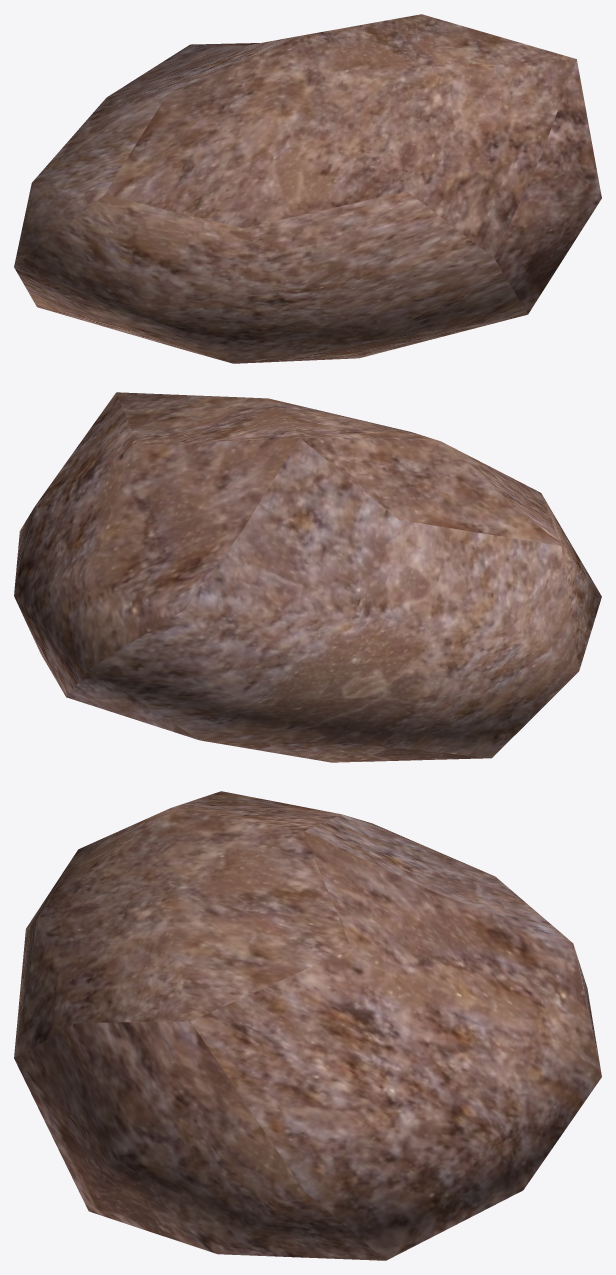
File: Rock05.fbx
3 views of the same model, one above another, from view 1: azimuth 30°, elevation 25°; view 2: azimuth 150°, elevation 25°; view 3: azimuth 270°, elevation 25° (orthographic). The views are drawn at different scales.
Parts seen in each view (by area): view 1: Icosphere_002; view 2: Icosphere_002; view 3: Icosphere_002.
Part boxes in pixels (x1,y1,x2,y2): Icosphere_002: (14,14,601,363); Icosphere_002: (14,392,601,762); Icosphere_002: (14,791,601,1260).
Bounding box in the file's own units: 2.75 × 1.35 × 2.07.
Materials: 1 (1 with a texture image).
